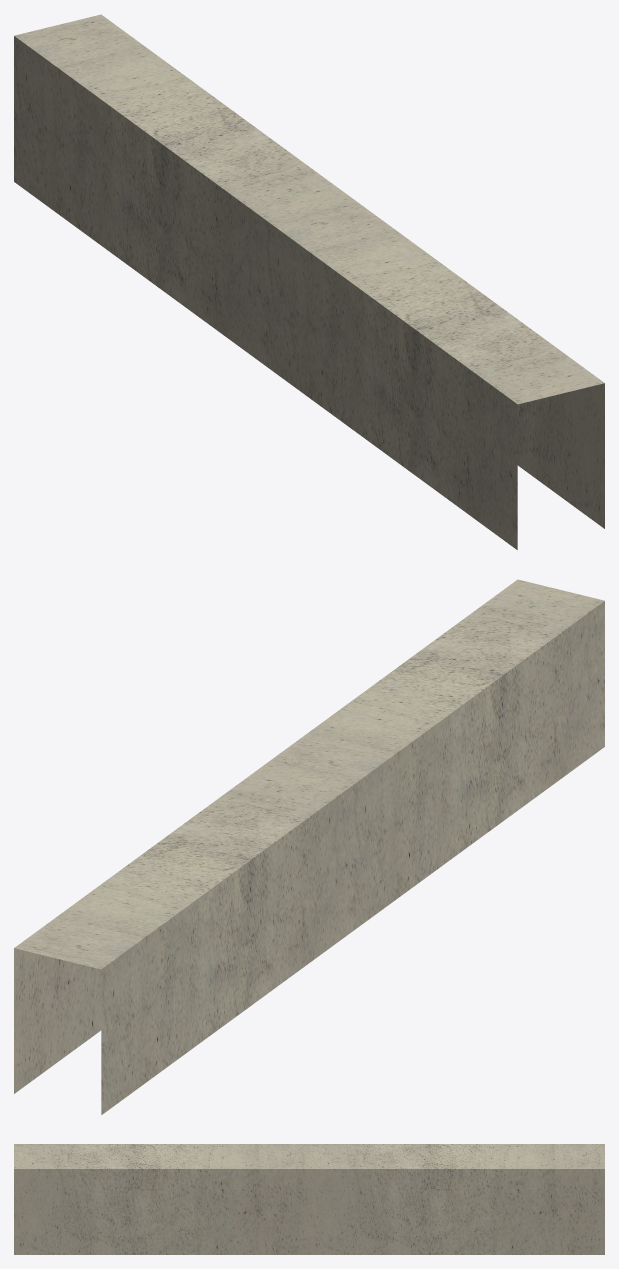
File: GSDRailingBase1.FBX
3 views of the same model, one above another, from view 1: azimuth 30°, elevation 25°; view 2: azimuth 150°, elevation 25°; view 3: azimuth 270°, elevation 25° (orthographic). The views are drawn at different scales.
Parts seen in each view (by area): view 1: GSDRailingBase1; view 2: GSDRailingBase1; view 3: GSDRailingBase1.
Part boxes in pixels (x1=…): GSDRailingBase1: x1=14, y1=14, x2=604, y2=549; GSDRailingBase1: x1=14, y1=579, x2=604, y2=1114; GSDRailingBase1: x1=14, y1=1144, x2=604, y2=1254.
Size of the model in its own units: 0.5 by 0.8 by 5.
